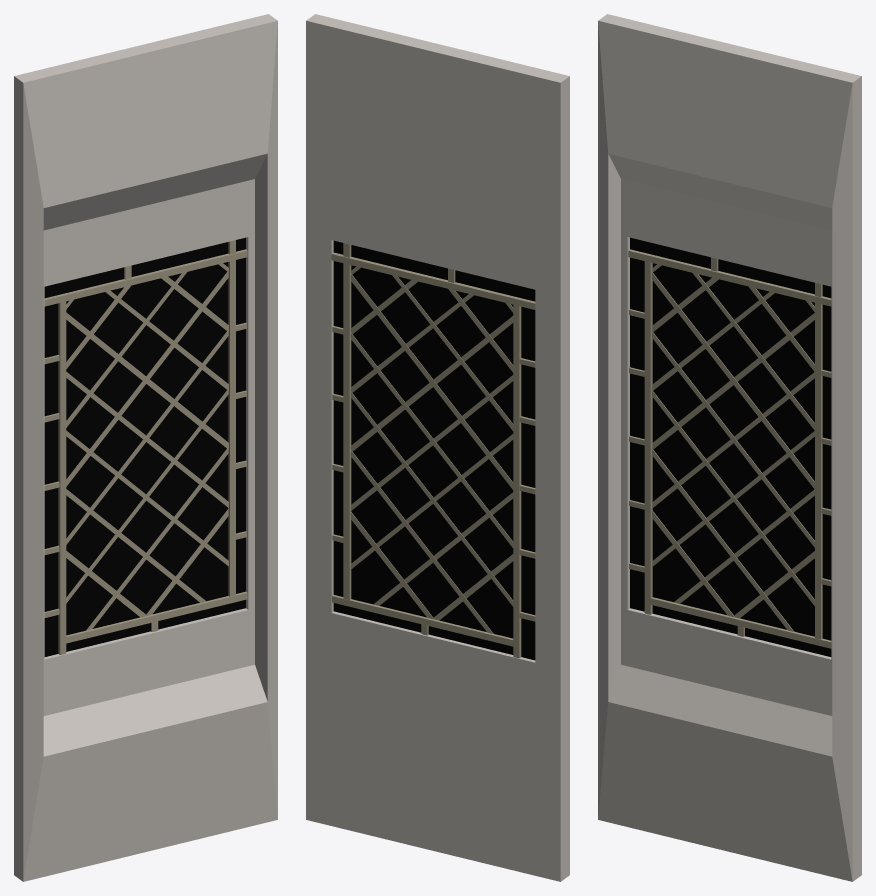
Rendered from _WINDOW_04_1.fbx.
The picture shows the model from 3 angles, left to right: view 1: azimuth 30°, elevation 25°; view 2: azimuth 150°, elevation 25°; view 3: azimuth 330°, elevation 25°; orthographic projection.
Parts seen in each view (by area): view 1: WINDOW_04_1; view 2: WINDOW_04_1; view 3: WINDOW_04_1.
Boxes of the visible parts, <box> form: WINDOW_04_1: <box>14,14,277,881</box>; WINDOW_04_1: <box>306,14,569,881</box>; WINDOW_04_1: <box>598,14,861,881</box>.
Size of the model in its own units: 100 by 300 by 9.77.
